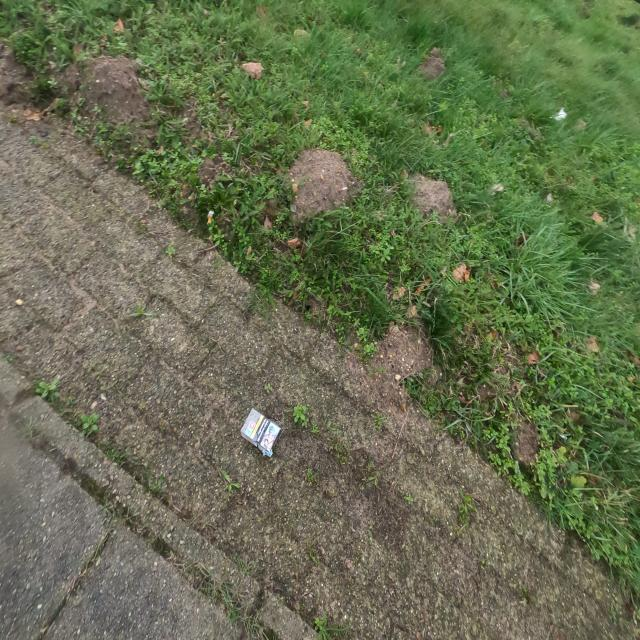Paper: (239, 406, 283, 458)
